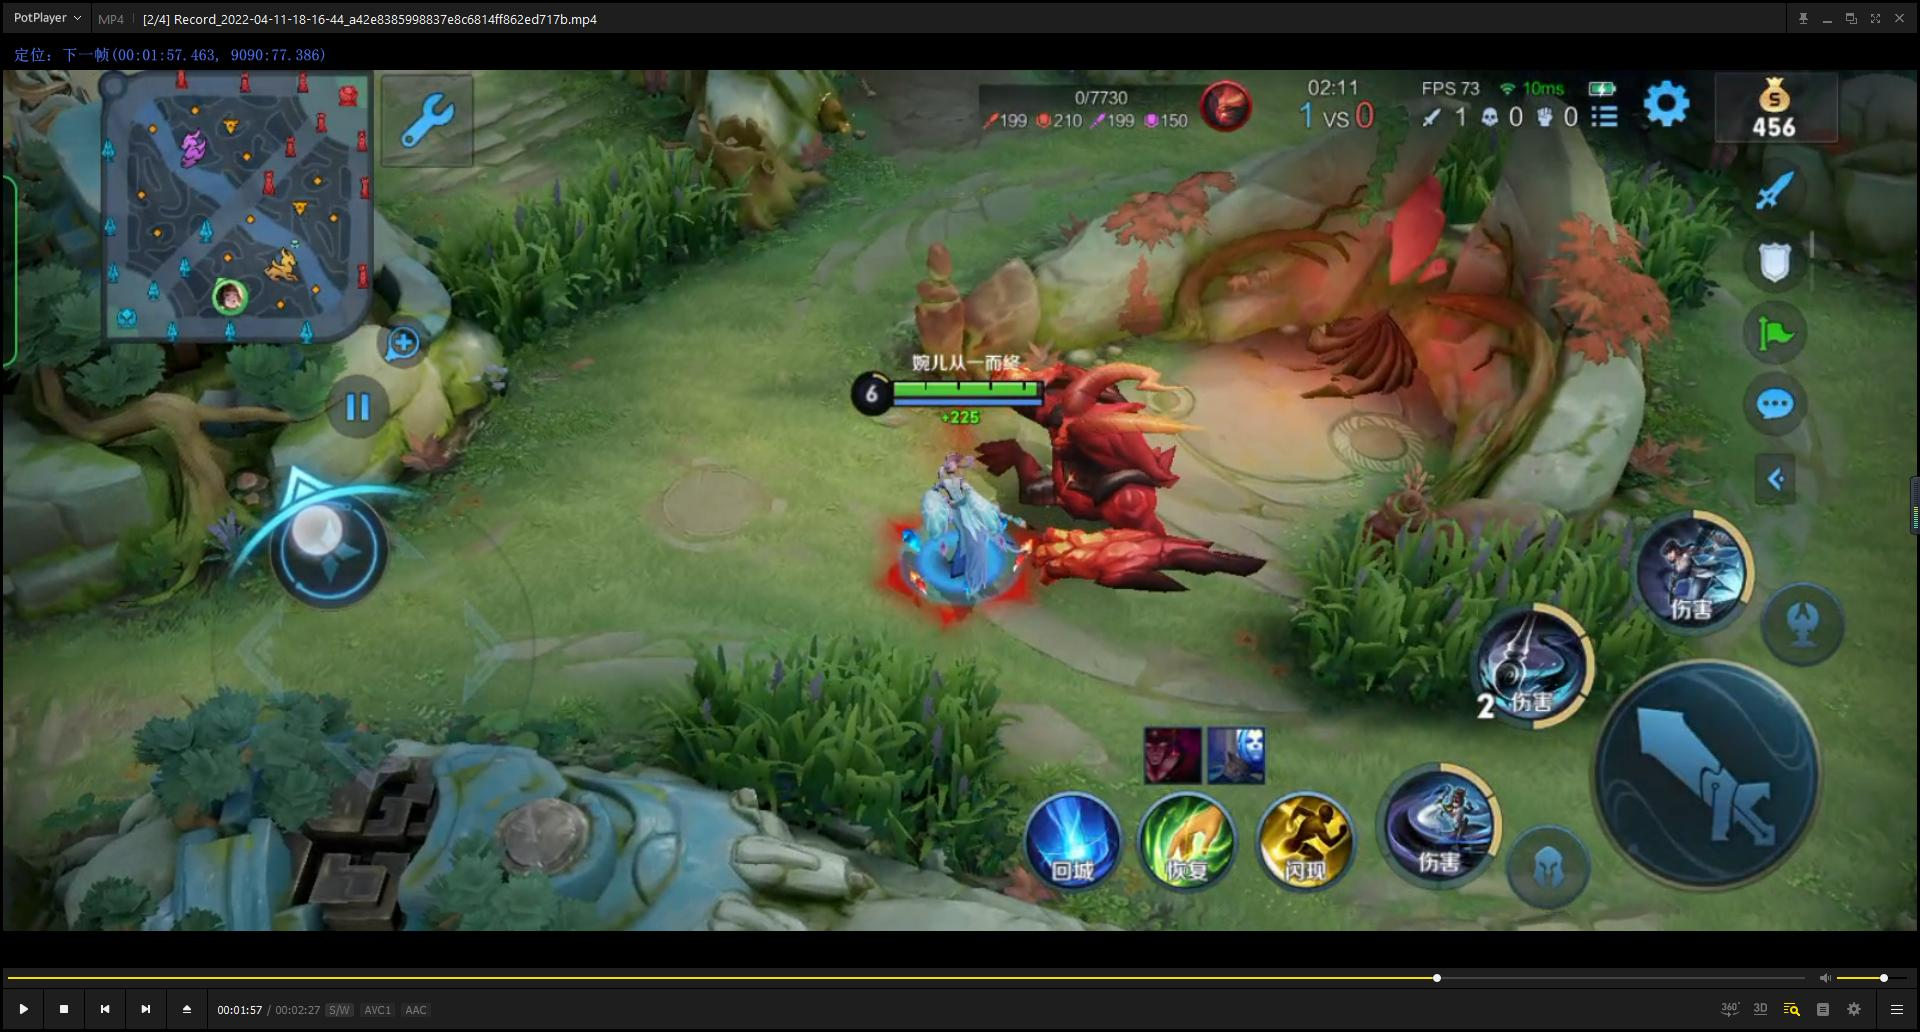Buff: (929, 316, 1269, 652)
Hero: (856, 424, 1039, 616)
